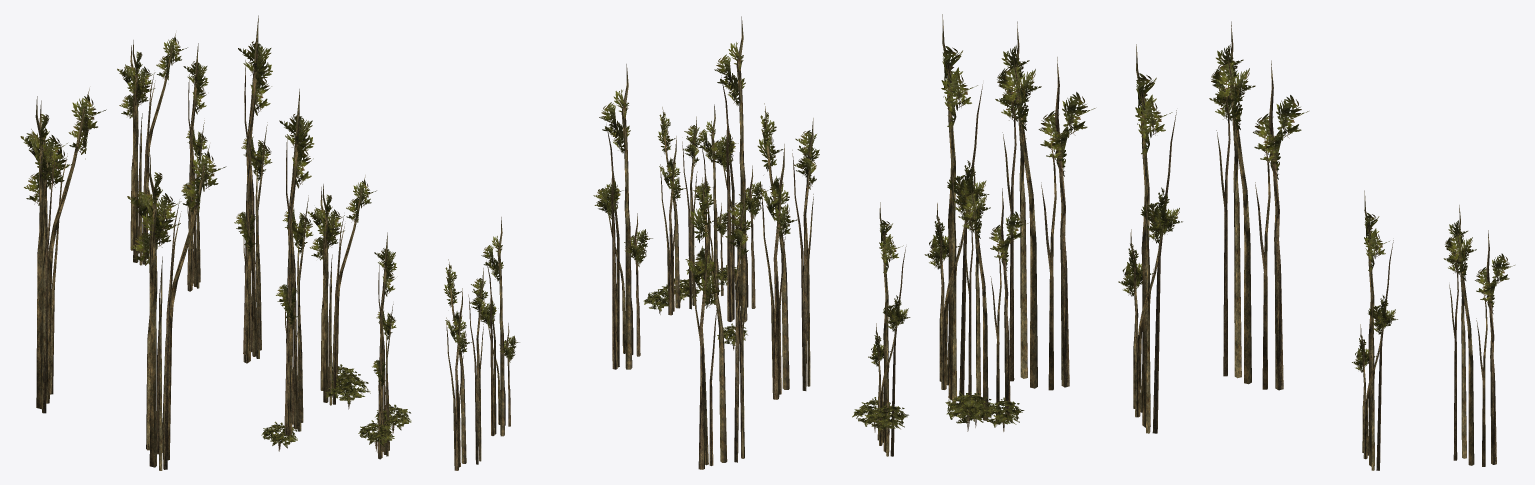
The picture shows the model from 3 angles, left to right: view 1: azimuth 30°, elevation 25°; view 2: azimuth 150°, elevation 25°; view 3: azimuth 270°, elevation 25°; orthographic projection. The views are drawn at different scales.
Visible parts, largest first — view 1: mesh0, mesh1; view 2: mesh0, mesh1; view 3: mesh0, mesh1.
Part boxes in pixels (<box>): mesh0: <box>35,15,394,470</box>; mesh1: <box>20,37,411,448</box>; mesh0: <box>446,16,813,470</box>; mesh1: <box>443,42,819,362</box>; mesh0: <box>873,14,1496,470</box>; mesh1: <box>852,44,1514,432</box>.
Bounding box in the file's own units: 14.74 × 20.77 × 29.18.
